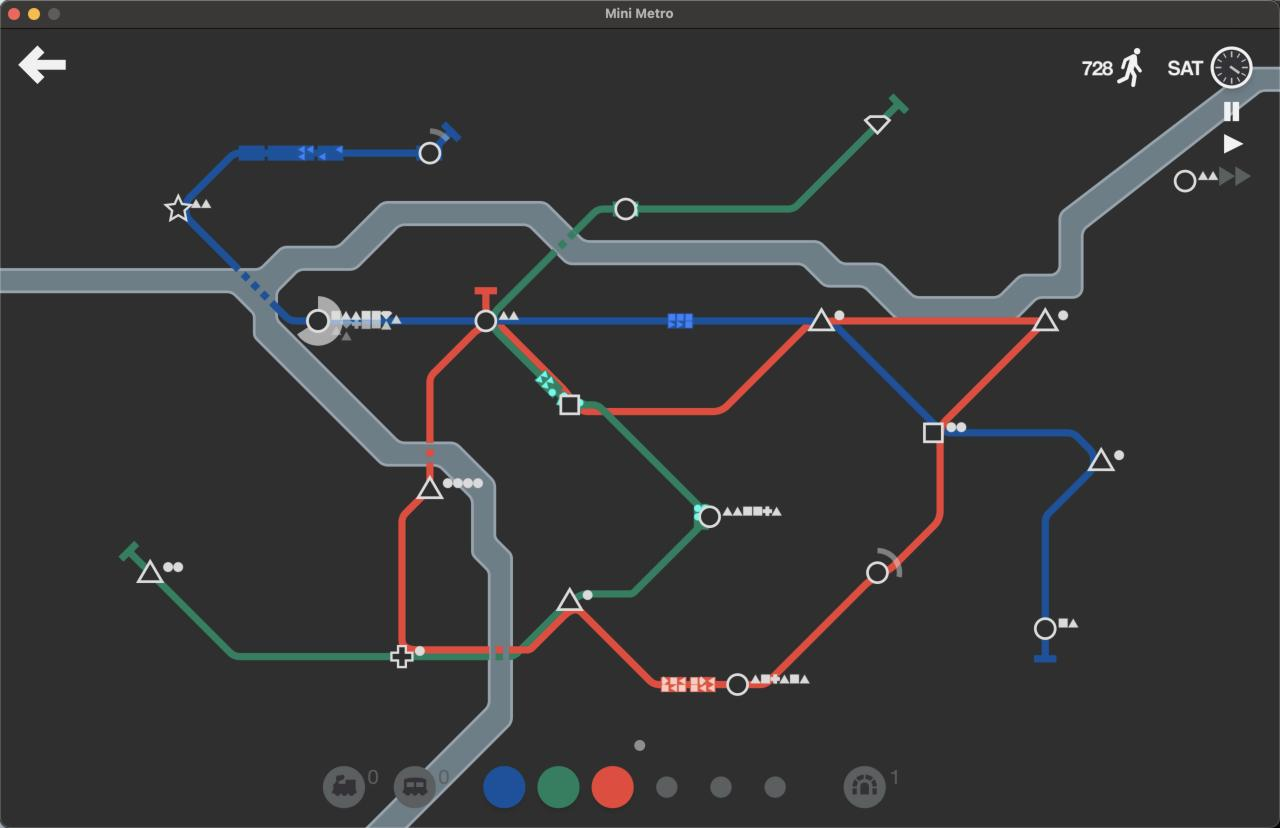BLUE LINE: (187, 215, 306, 325), (184, 146, 420, 201), (835, 326, 938, 421), (1042, 472, 1094, 618), (944, 428, 1099, 456), (499, 316, 814, 324), (344, 317, 472, 327), (1033, 641, 1059, 664), (437, 121, 461, 144)
DARK GREEN LINE: (639, 130, 871, 214), (157, 581, 391, 661), (492, 206, 612, 311), (584, 402, 700, 505), (575, 522, 701, 600), (493, 329, 561, 397), (521, 610, 559, 645), (119, 542, 145, 569), (414, 654, 522, 660), (886, 93, 909, 115)
ORANGE LINE: (607, 324, 809, 416), (748, 579, 869, 688), (575, 611, 725, 690), (941, 331, 1037, 424), (426, 328, 478, 474), (888, 444, 944, 576), (406, 612, 572, 651), (501, 325, 570, 393), (400, 496, 421, 645), (829, 317, 1039, 326), (476, 286, 496, 308), (582, 408, 599, 414)
